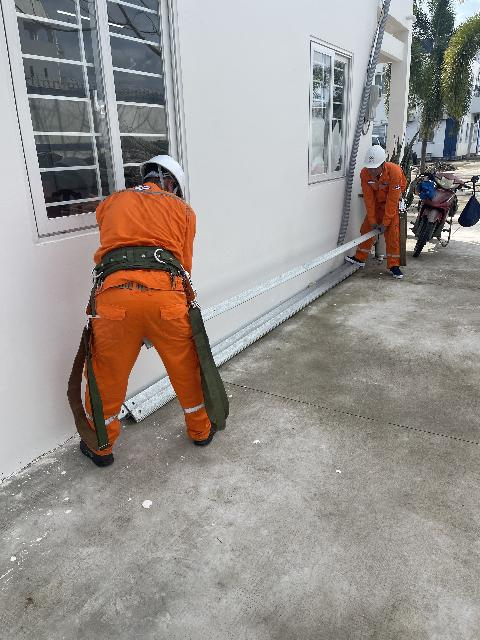gloves: (375, 220, 389, 235), (369, 221, 379, 232)
harness: (81, 240, 196, 289)
helmet: (140, 152, 201, 210), (356, 142, 392, 175)
shoes: (67, 432, 118, 473), (185, 412, 224, 451), (342, 249, 367, 270), (385, 263, 406, 281)
